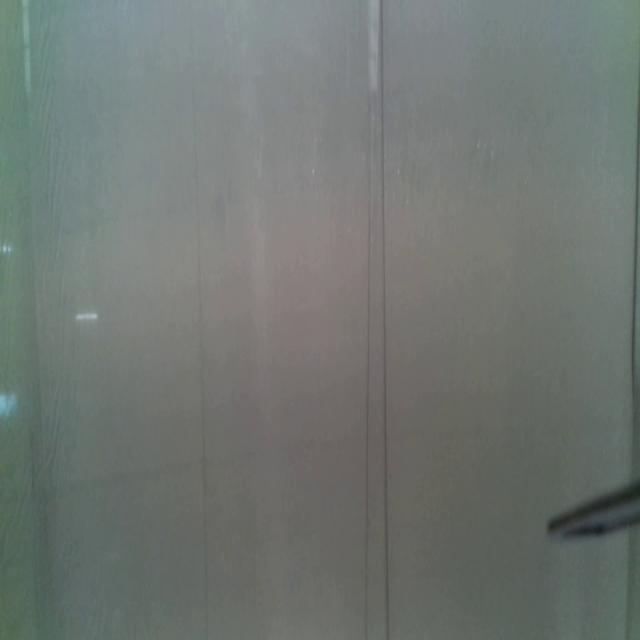crease: (188, 10, 210, 640), (379, 0, 391, 640), (362, 1, 372, 639), (628, 96, 640, 409)
